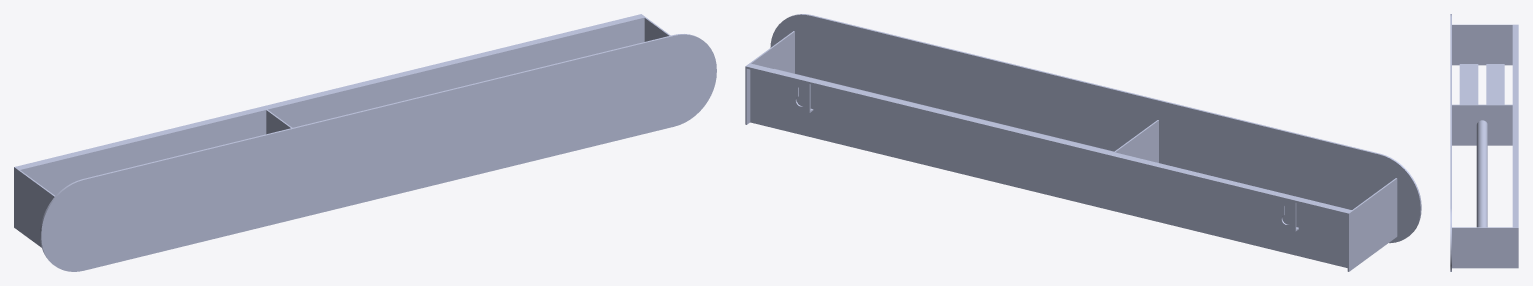
File: round-double.427b6ab85f.glb
3 views of the same model, side by side, from view 1: azimuth 30°, elevation 25°; view 2: azimuth 150°, elevation 25°; view 3: azimuth 270°, elevation 25° (orthographic). The views are drawn at different scales.
Parts seen in each view (by area): view 1: NAUO1; view 2: NAUO1; view 3: NAUO1.
Boxes of the visible parts, x1=… form: NAUO1: x1=14, y1=14, x2=716, y2=271; NAUO1: x1=745, y1=14, x2=1421, y2=271; NAUO1: x1=1450, y1=14, x2=1518, y2=271.
Bounding box in the file's own units: 0.7 × 0.09 × 0.092.
